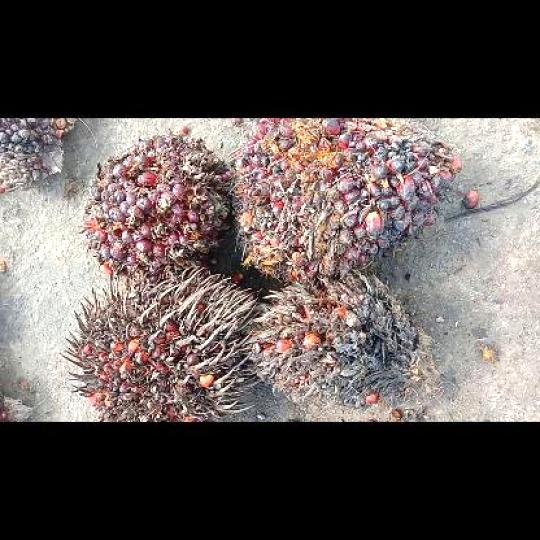masak: (231, 117, 457, 282), (80, 130, 232, 280)
terlalu masak: (62, 267, 260, 421), (246, 272, 434, 406)
